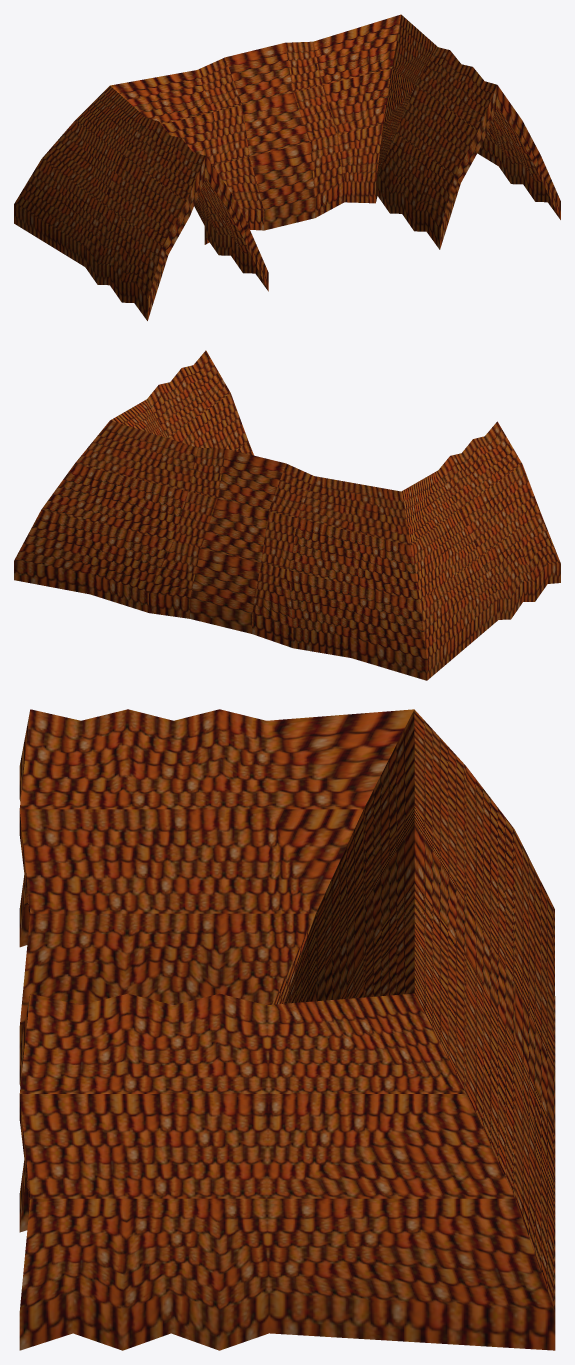
The model's file is roof_fortress.dae.
3 renders of one model, top to bottom at view 1: azimuth 30°, elevation 25°; view 2: azimuth 150°, elevation 25°; view 3: azimuth 270°, elevation 25°, orthographic. The views are drawn at different scales.
Parts seen in each view (by area): view 1: fortress.001; view 2: fortress.001; view 3: fortress.001.
Boxes of the visible parts, x1,y1,x2,y2 form: fortress.001: (14, 14, 560, 320); fortress.001: (14, 350, 560, 680); fortress.001: (19, 709, 555, 1350).
Size of the model in its own units: 20.24 by 11.36 by 6.97.
